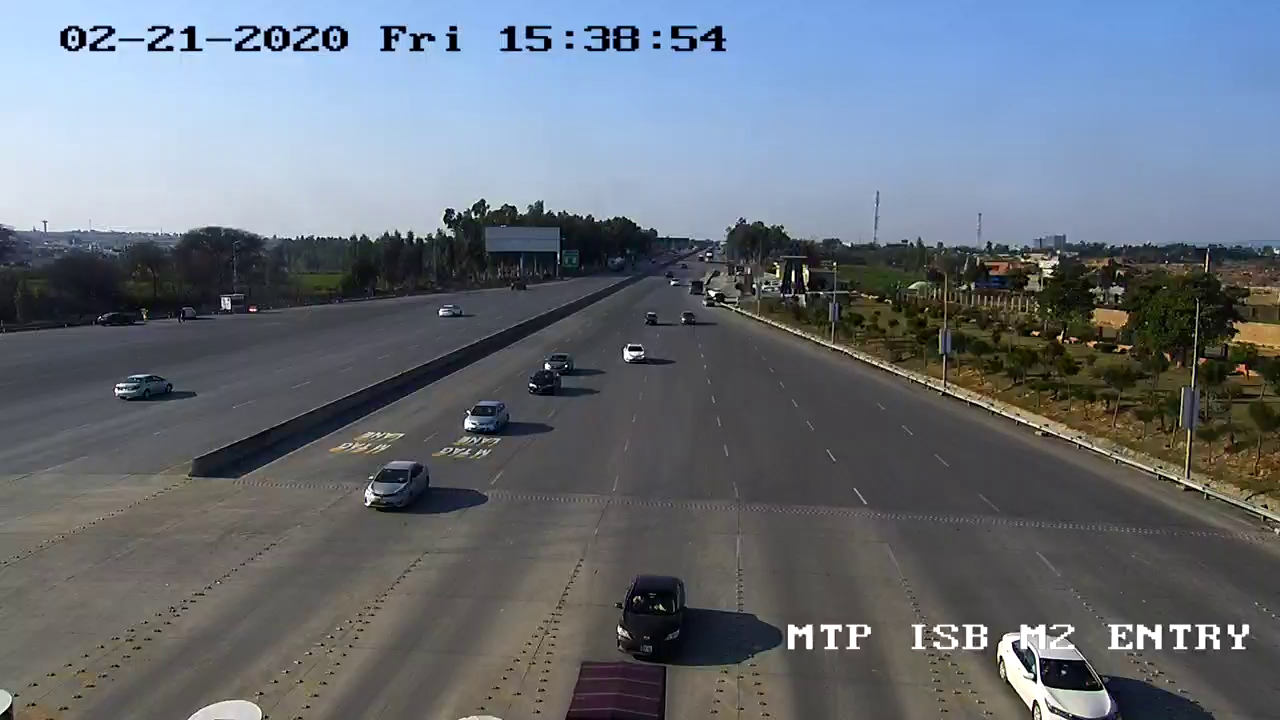f1: (605, 561, 700, 666), (354, 448, 440, 520), (452, 395, 522, 446)
